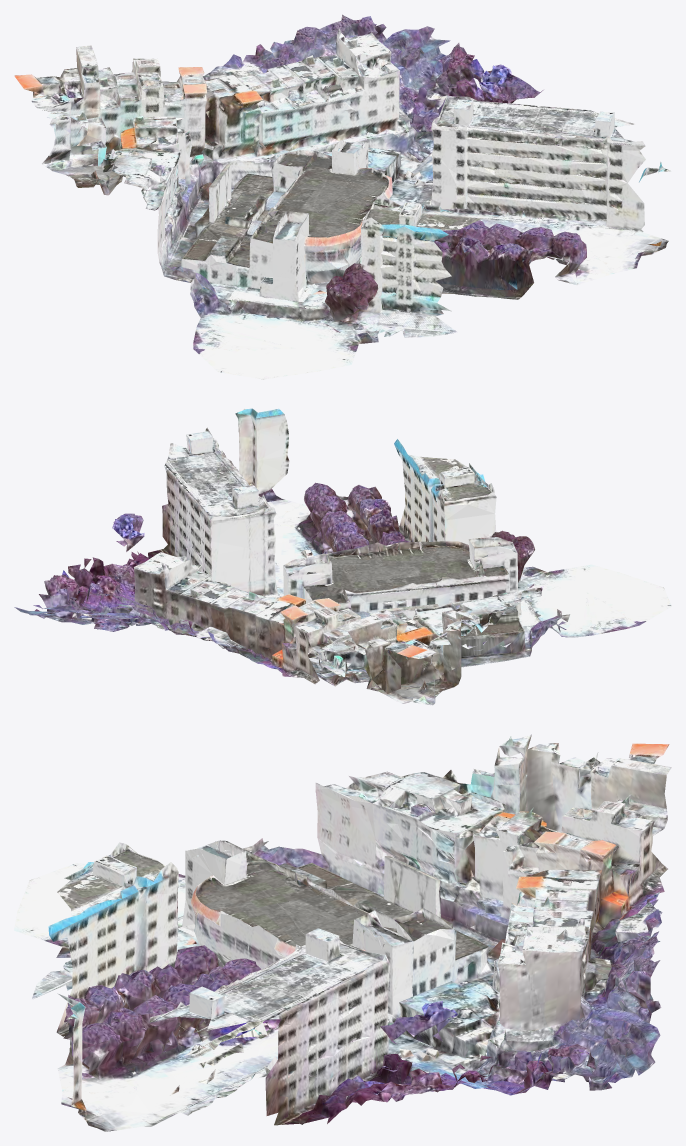
File: Tile_+012_+018_L18_00003.glb
3 renders of one model, top to bottom at view 1: azimuth 30°, elevation 25°; view 2: azimuth 150°, elevation 25°; view 3: azimuth 270°, elevation 25°, orthographic. The views are drawn at different scales.
Parts seen in each view (by area): view 1: rtc; view 2: rtc; view 3: rtc.
Boxes of the visible parts, x1=… form: rtc: x1=14, y1=14, x2=671, y2=379; rtc: x1=14, y1=408, x2=671, y2=705; rtc: x1=14, y1=734, x2=671, y2=1131.
Size of the model in its own units: 117 by 30.25 by 114.
1 material, 1 textured.
